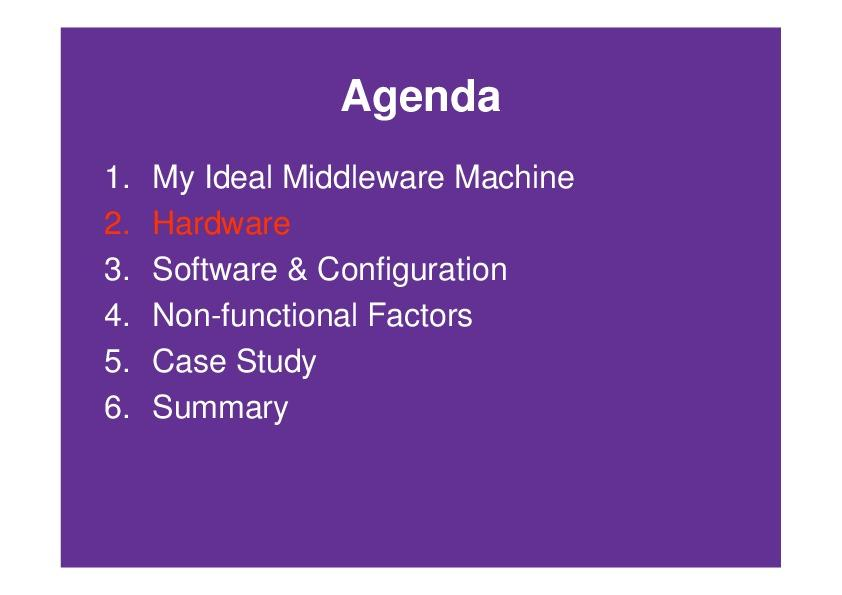paragraph: (93, 147, 616, 454)
title: (337, 60, 514, 130)
